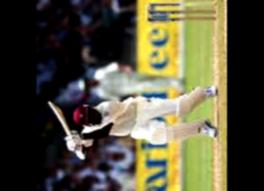batsman: (40, 77, 224, 155)
